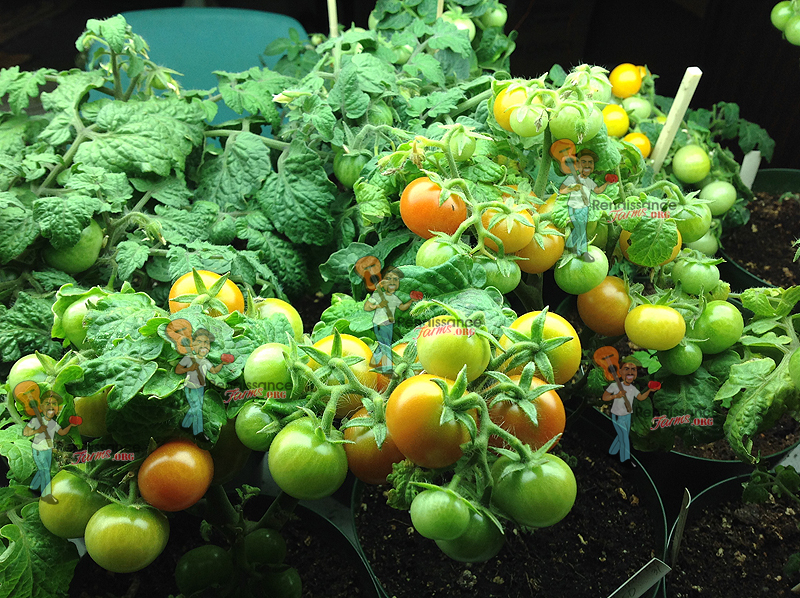tomato: (384, 371, 483, 470), (266, 411, 346, 502), (489, 452, 579, 528), (300, 329, 382, 412), (134, 439, 224, 513), (495, 311, 581, 387), (84, 502, 174, 571), (37, 465, 113, 540), (413, 311, 494, 380), (342, 394, 402, 483), (491, 378, 567, 446), (170, 268, 248, 326), (401, 174, 474, 233), (238, 334, 305, 397), (572, 271, 635, 334), (400, 485, 475, 536), (683, 299, 752, 348), (170, 541, 237, 591), (478, 196, 534, 254), (629, 297, 683, 350), (556, 241, 607, 292), (551, 99, 603, 144), (239, 526, 298, 563), (672, 251, 721, 292), (673, 255, 720, 296), (672, 144, 712, 185), (671, 201, 714, 239), (507, 100, 549, 136), (702, 175, 736, 213), (610, 60, 642, 98), (602, 101, 630, 140), (626, 130, 651, 161)
